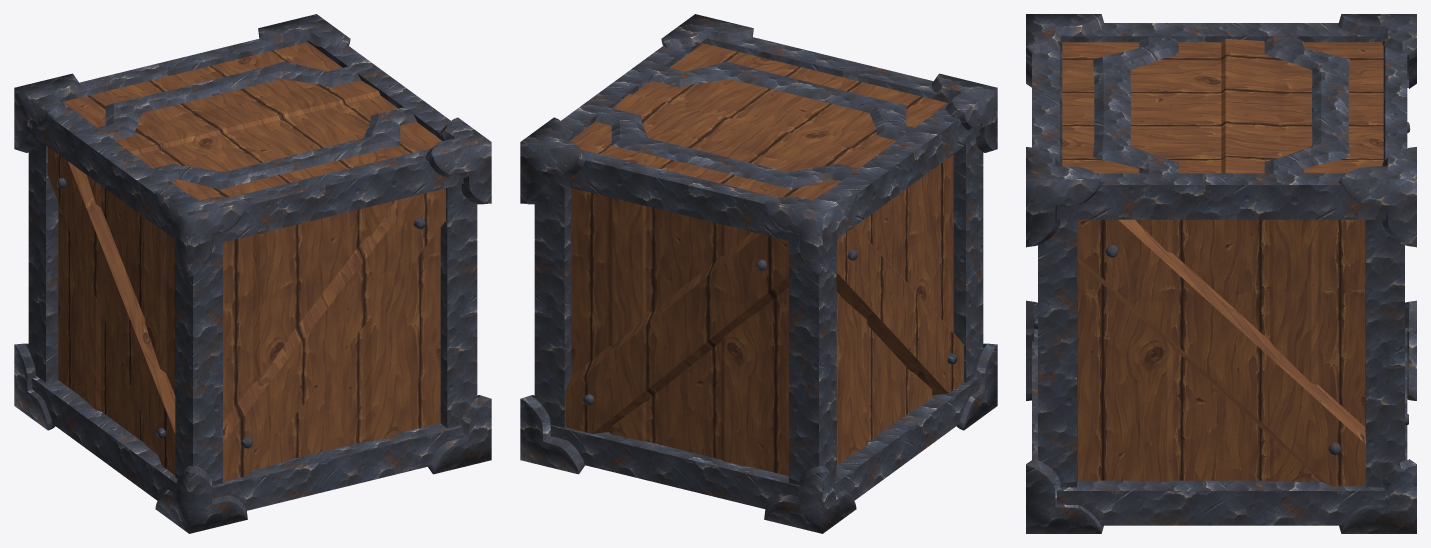
File: furn_crate_iron.glb
3 views of the same model, side by side, from view 1: azimuth 30°, elevation 25°; view 2: azimuth 150°, elevation 25°; view 3: azimuth 270°, elevation 25° (orthographic). The views are drawn at different scales.
Visible parts, largest first — view 1: model; view 2: model; view 3: model.
Boxes of the visible parts, x1,y1,x2,y2 form: model: [14, 14, 491, 533]; model: [520, 14, 997, 533]; model: [1026, 14, 1416, 533].
Size of the model in its own units: 0.8639 by 0.8679 by 0.8659.
Materials: 2 (2 with a texture image).
